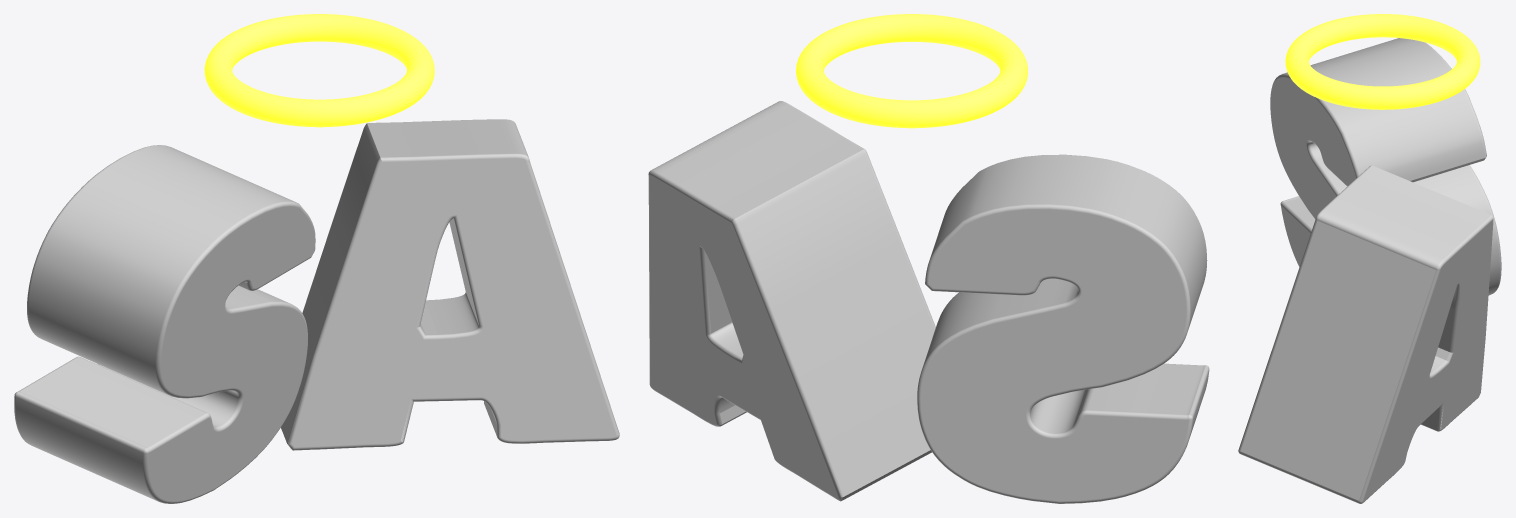
File: super_amigos.gltf
The picture shows the model from 3 angles, left to right: view 1: azimuth 30°, elevation 25°; view 2: azimuth 150°, elevation 25°; view 3: azimuth 270°, elevation 25°; orthographic projection. The views are drawn at different scales.
Visible parts, largest first — view 1: Null.1-Mat.1, Null.1-Mat; view 2: Null.1-Mat.1, Null.1-Mat; view 3: Null.1-Mat.1, Null.1-Mat.
Boxes of the visible parts, box(x1,y1,x2,y2) form: Null.1-Mat.1: box(14, 119, 619, 503); Null.1-Mat: box(204, 14, 434, 127); Null.1-Mat.1: box(648, 101, 1209, 503); Null.1-Mat: box(796, 14, 1027, 128); Null.1-Mat.1: box(1238, 38, 1501, 503); Null.1-Mat: box(1285, 14, 1480, 109).
Bounding box in the file's own units: 330 × 225 × 157.
